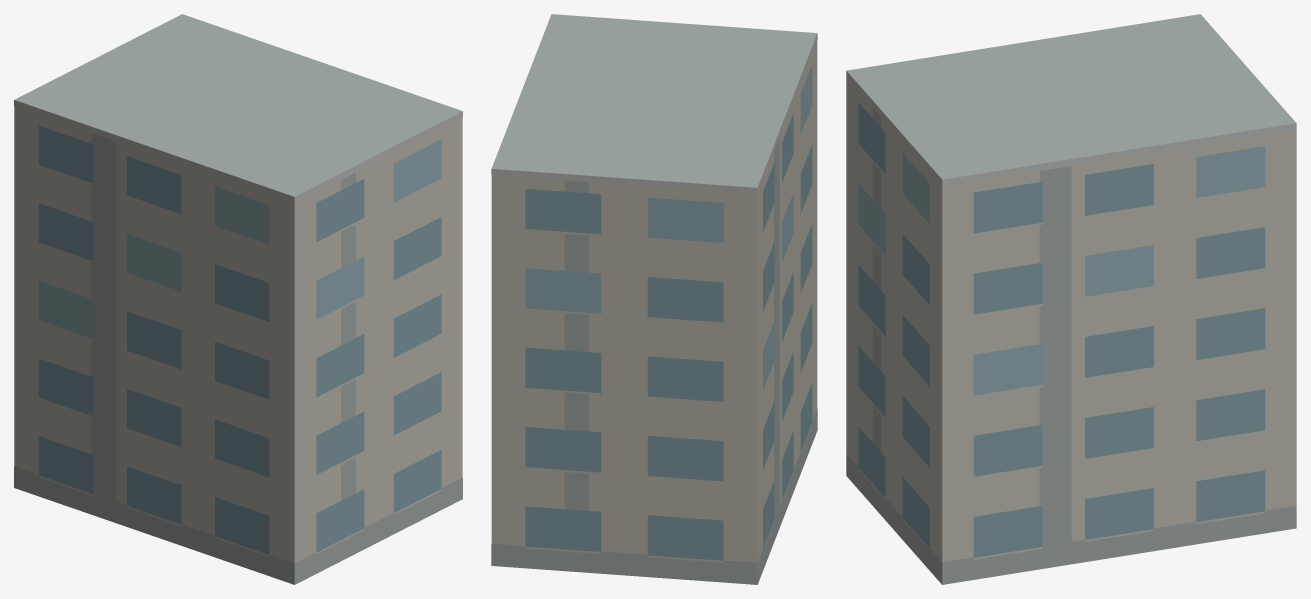
Rendered from survey-upis-32710106.glb.
3 renders of one model, left to right at view 1: azimuth 30°, elevation 25°; view 2: azimuth 150°, elevation 25°; view 3: azimuth 270°, elevation 25°, orthographic. The views are drawn at different scales.
Parts seen in each view (by area): view 1: survey-upis-32710106.tmp; view 2: survey-upis-32710106.tmp; view 3: survey-upis-32710106.tmp.
Boxes of the visible parts, x1,y1,x2,y2 form: survey-upis-32710106.tmp: (14, 14, 462, 584); survey-upis-32710106.tmp: (491, 14, 817, 584); survey-upis-32710106.tmp: (846, 14, 1296, 584).
Size of the model in its own units: 12.63 by 14.4 by 14.51.
